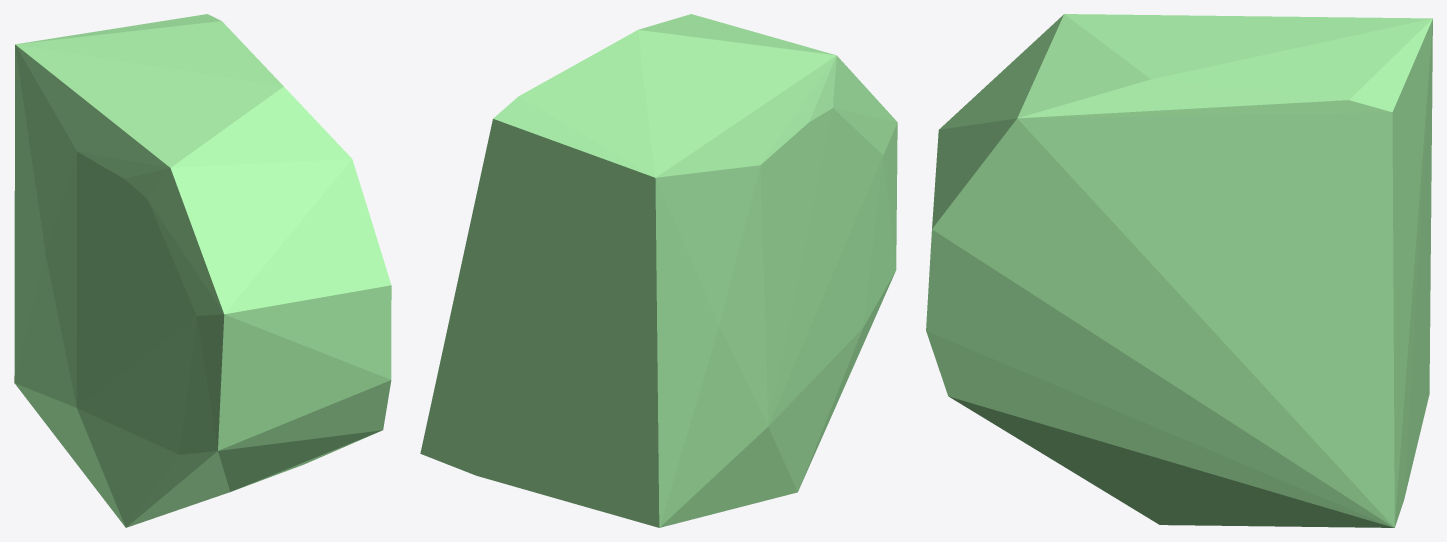
The model's file is linkhou_LR4_R560_link6_respondable_coll_21.dae.
3 renders of one model, left to right at view 1: azimuth 30°, elevation 25°; view 2: azimuth 150°, elevation 25°; view 3: azimuth 270°, elevation 25°, orthographic. The views are drawn at different scales.
Parts seen in each view (by area): view 1: Node_00000209DB3AA2F0; view 2: Node_00000209DB3AA2F0; view 3: Node_00000209DB3AA2F0.
Boxes of the visible parts, x1,y1,x2,y2 form: Node_00000209DB3AA2F0: [14, 14, 391, 527]; Node_00000209DB3AA2F0: [420, 14, 897, 527]; Node_00000209DB3AA2F0: [926, 14, 1432, 527].
Size of the model in its own units: 0.0398 by 0.0577 by 0.0586.
